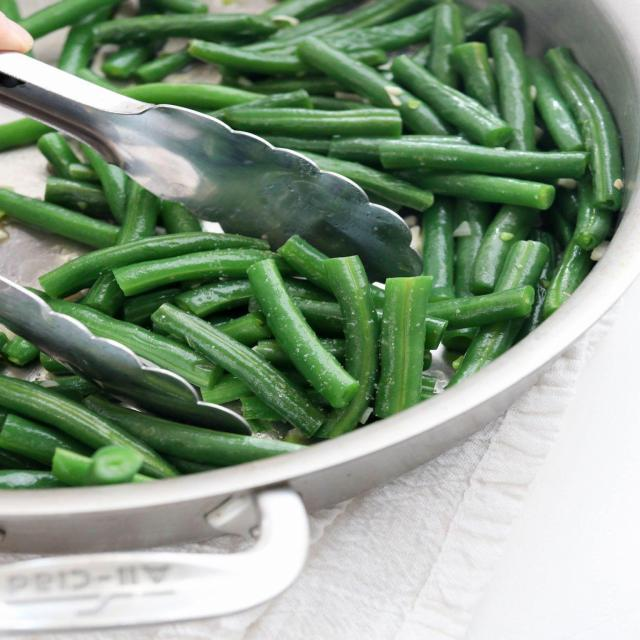Beans: (0, 0, 621, 490)
